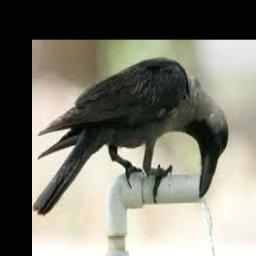Crow: (34, 57, 229, 215)
